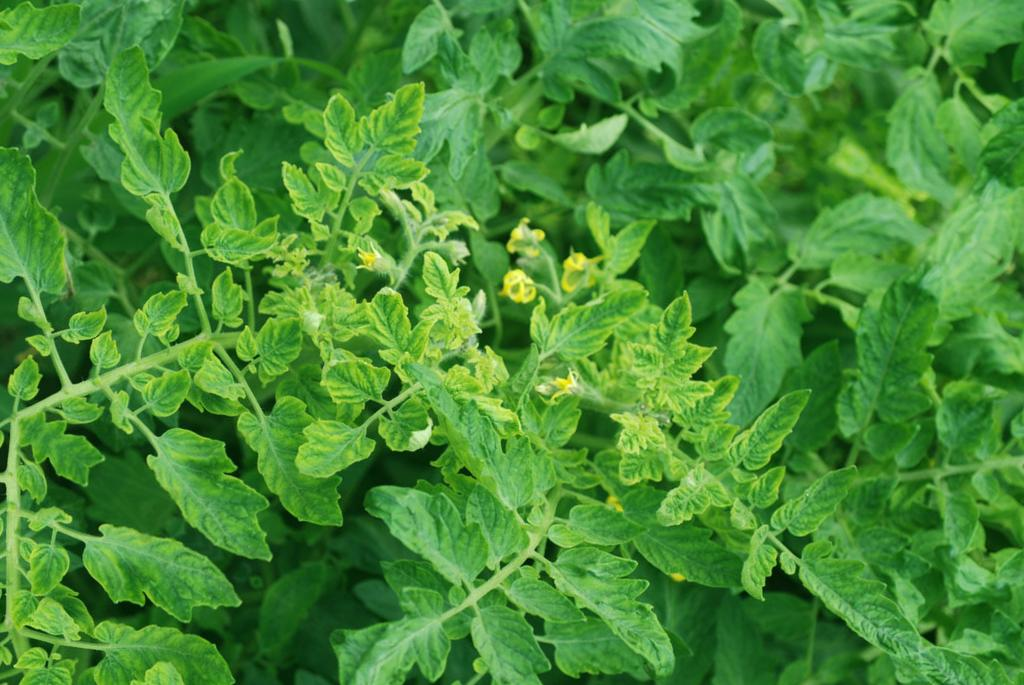Tomato leaf yellow virus: (209, 370, 396, 545), (55, 34, 232, 215), (124, 414, 313, 581), (392, 367, 573, 532), (777, 530, 945, 676), (354, 460, 510, 597), (0, 153, 110, 315), (533, 253, 654, 386), (344, 63, 457, 179), (437, 598, 584, 685), (722, 364, 825, 484), (582, 398, 688, 509), (219, 292, 325, 401), (280, 403, 381, 505), (347, 281, 445, 381), (297, 88, 394, 185), (554, 481, 654, 573), (629, 279, 717, 375), (308, 335, 400, 426), (191, 201, 280, 290), (718, 519, 802, 604), (367, 387, 444, 466), (640, 467, 716, 546), (262, 157, 342, 231), (48, 283, 122, 362), (191, 261, 266, 337), (526, 384, 598, 460), (134, 357, 203, 432), (125, 272, 194, 346), (407, 242, 477, 307), (0, 348, 58, 418), (79, 323, 137, 382)
